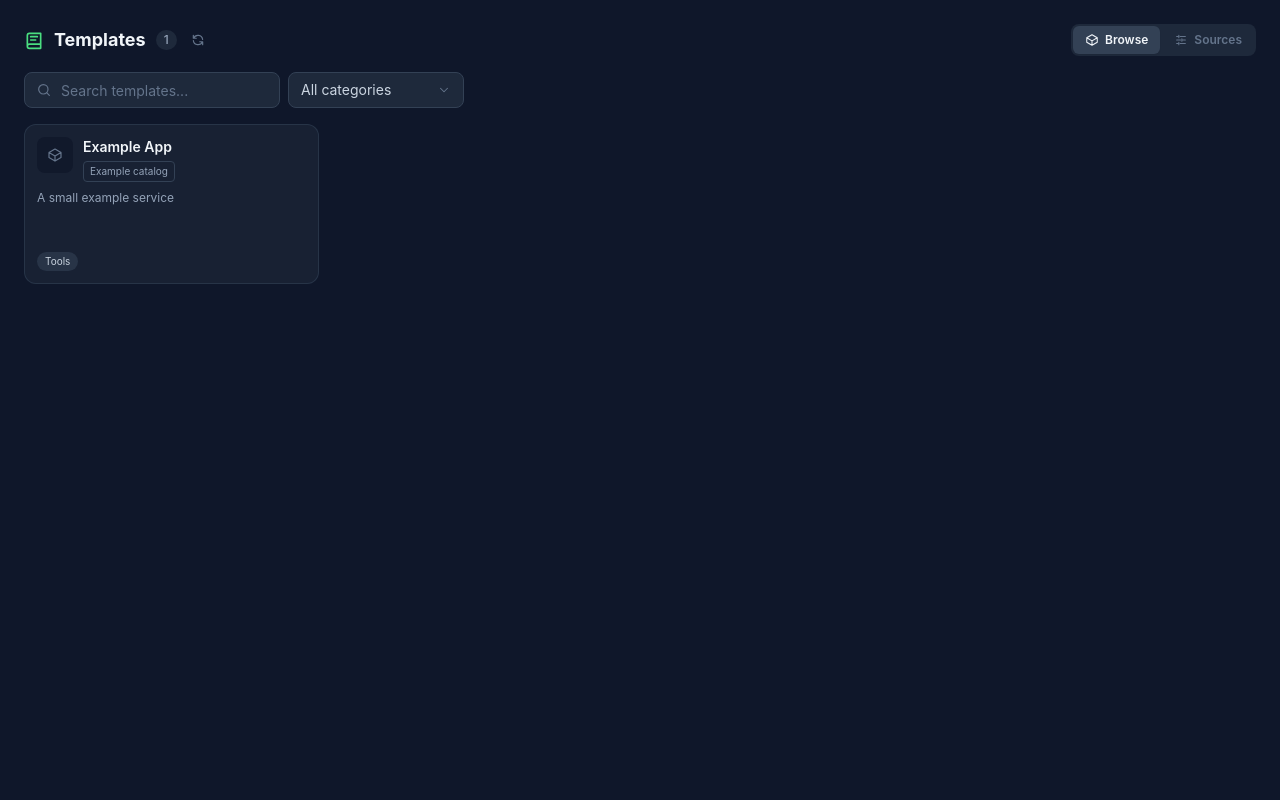
Scenario: TemplatesPage › browses a template and opens editable compose
Expected: the heading "Example App" is shown, top-left (83, 138), bottom-right (172, 155)
Click the button "Example App Example catalog A small example service Tools" at (172, 204), box top-left (24, 124), bottom-right (319, 284)
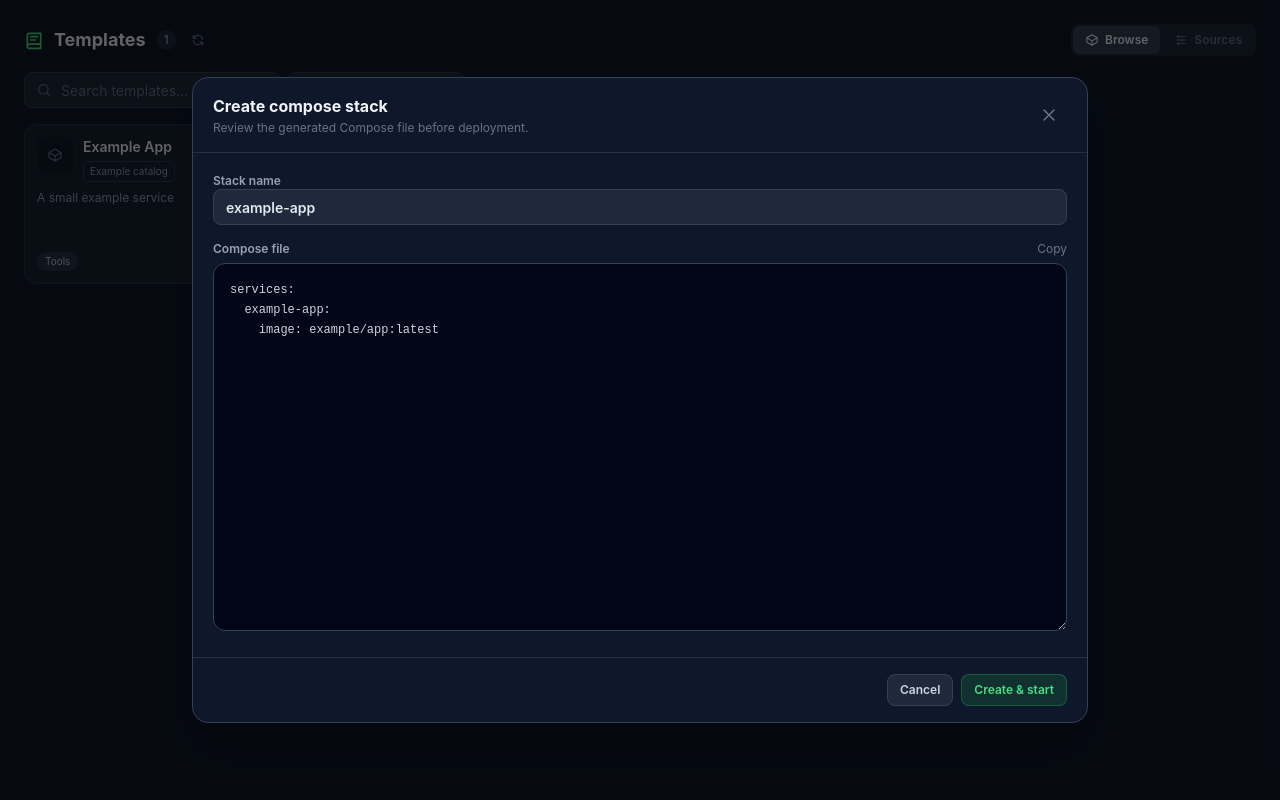
Expected: the dialog "Create compose stack" is shown, top-left (192, 77), bottom-right (1088, 723)
Expected: the text box showing "example/app:latest" is shown, top-left (213, 263), bottom-right (1067, 631)
Expected: the field showing "example-app" is shown, top-left (213, 189), bottom-right (1067, 225)
